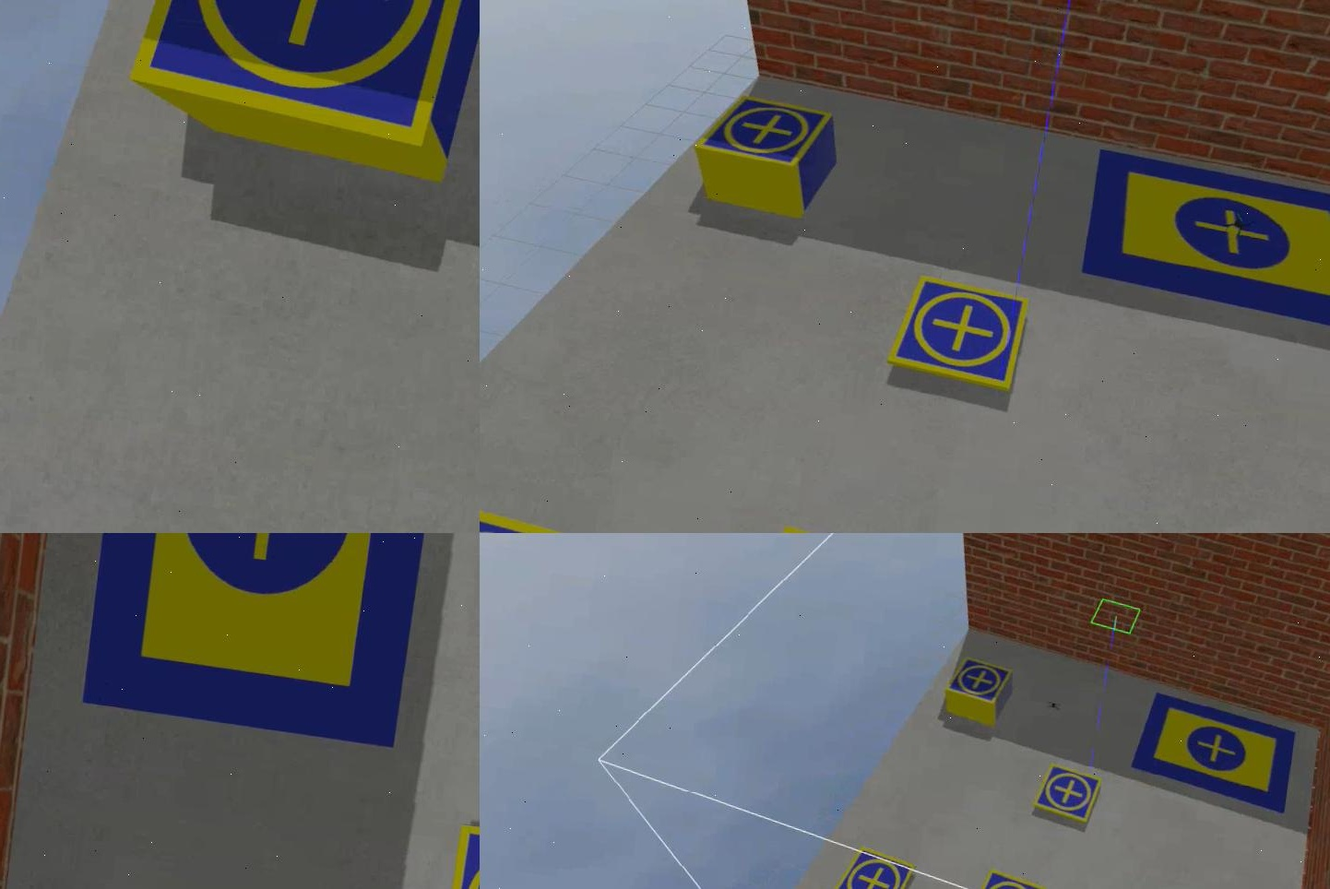large_base: (77, 534, 437, 749), (1074, 149, 1328, 339), (1125, 691, 1296, 813)
small_base: (118, 1, 479, 151), (883, 273, 1029, 395), (689, 89, 834, 175), (1028, 762, 1103, 831), (479, 497, 585, 534), (822, 847, 915, 889), (938, 657, 1012, 708), (961, 869, 1044, 889)
